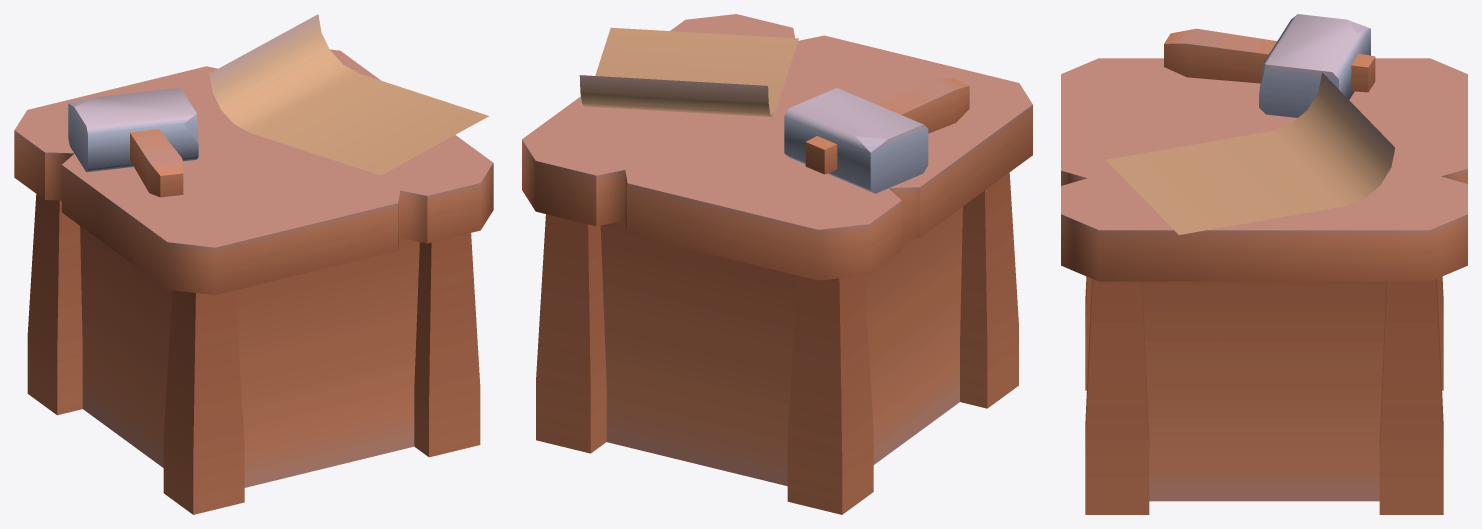
Rendered from workbench.glb.
3 views of the same model, side by side, from view 1: azimuth 30°, elevation 25°; view 2: azimuth 150°, elevation 25°; view 3: azimuth 270°, elevation 25° (orthographic). The views are drawn at different scales.
Visible parts, largest first — view 1: workbench; view 2: workbench; view 3: workbench.
Part boxes in pixels (<box>): workbench: <box>14,14,493,514</box>; workbench: <box>522,14,1032,514</box>; workbench: <box>1061,14,1467,514</box>.
Size of the model in its own units: 0.3257 by 0.2866 by 0.2956.
1 material, 1 textured.
